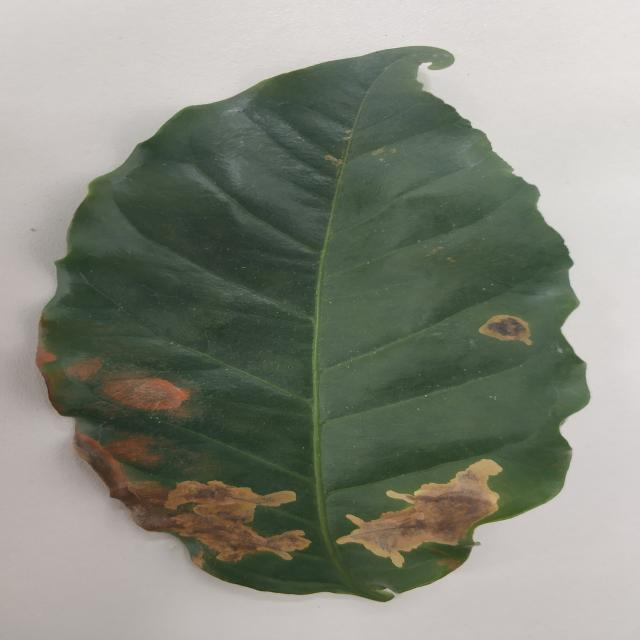Plaga-Minador: (37, 45, 591, 604)
